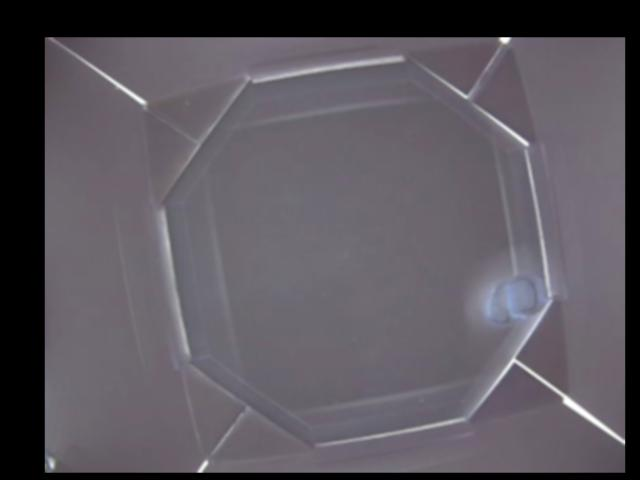Pebble: (488, 277, 539, 324)
